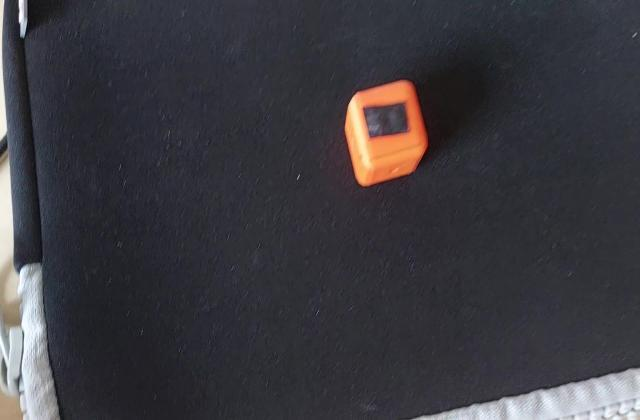black: (356, 97, 416, 144)
sticker: (341, 78, 432, 194)
